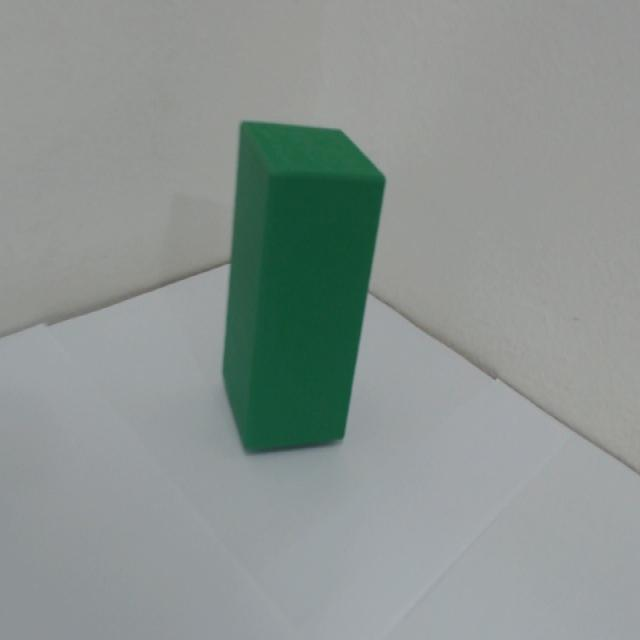cube: (193, 66, 399, 535)
